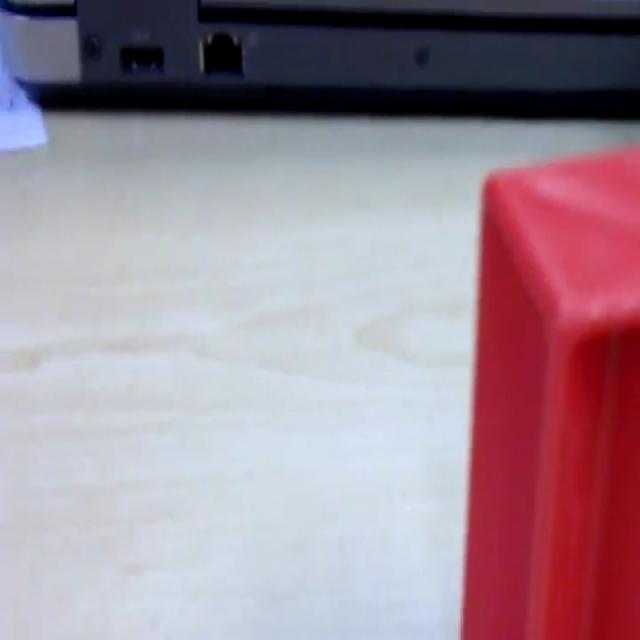red_block: (460, 144, 638, 636)
